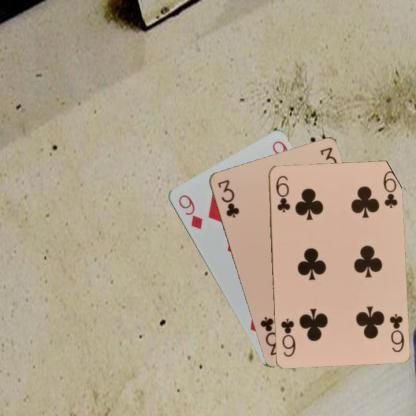3c: (214, 177, 240, 219)
6c: (386, 311, 405, 353), (273, 173, 291, 214)
9d: (175, 192, 204, 230)
